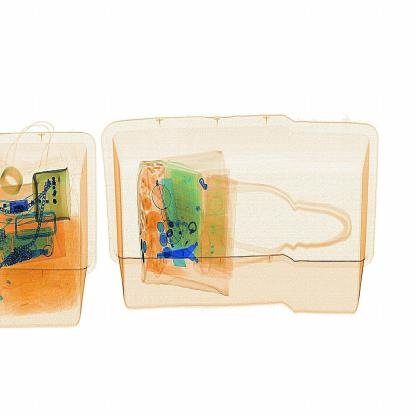gun: (159, 231, 214, 276)
